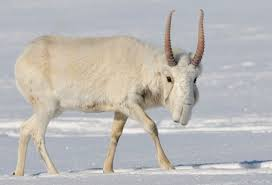saiga: (12, 8, 205, 177)
